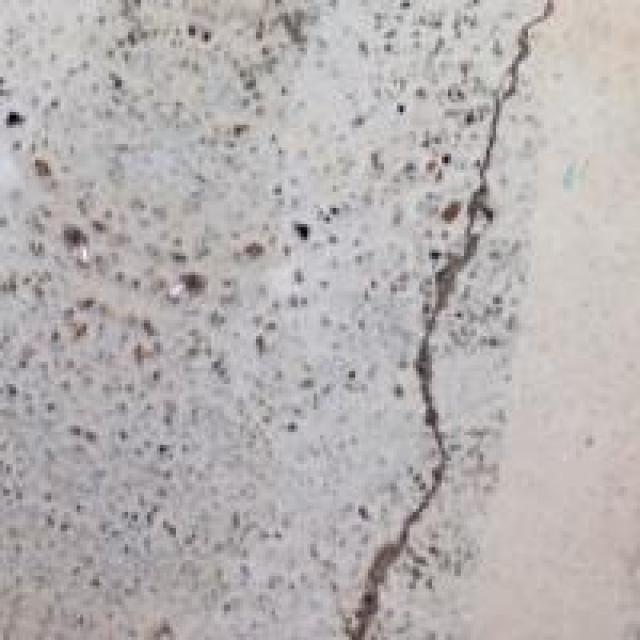Crack: (304, 41, 608, 636)
